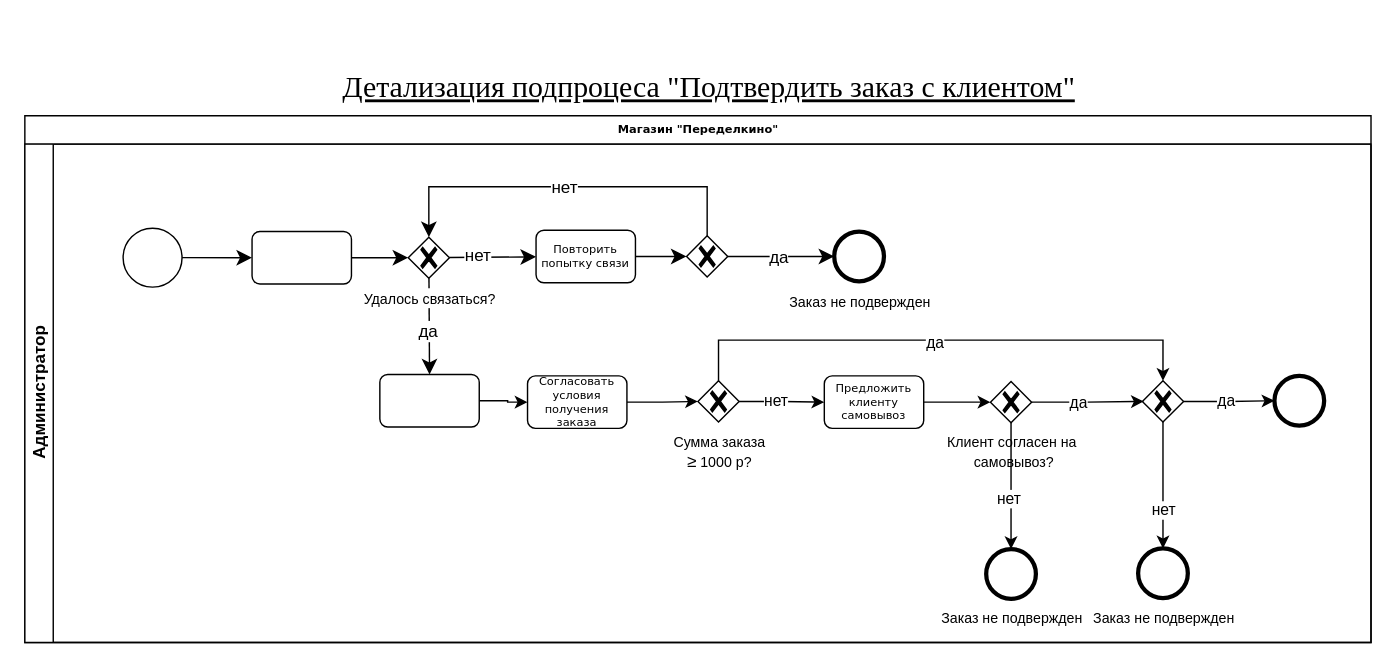
Image size: 1396x667. Some labels were removed from this diagram. Each missing label, with the centre of its shape:
Заказ подвержден: the point at 1298,400
Истекло 3 дня?: the point at 706,255
Клиент подтверждает заказ и условия получения?: the point at 1162,400
Необходимо потвердить заказ с клиентом: the point at 152,257
Связаться с клиентом: the point at 301,257
Согласовать заказ с клиентом: the point at 428,400
